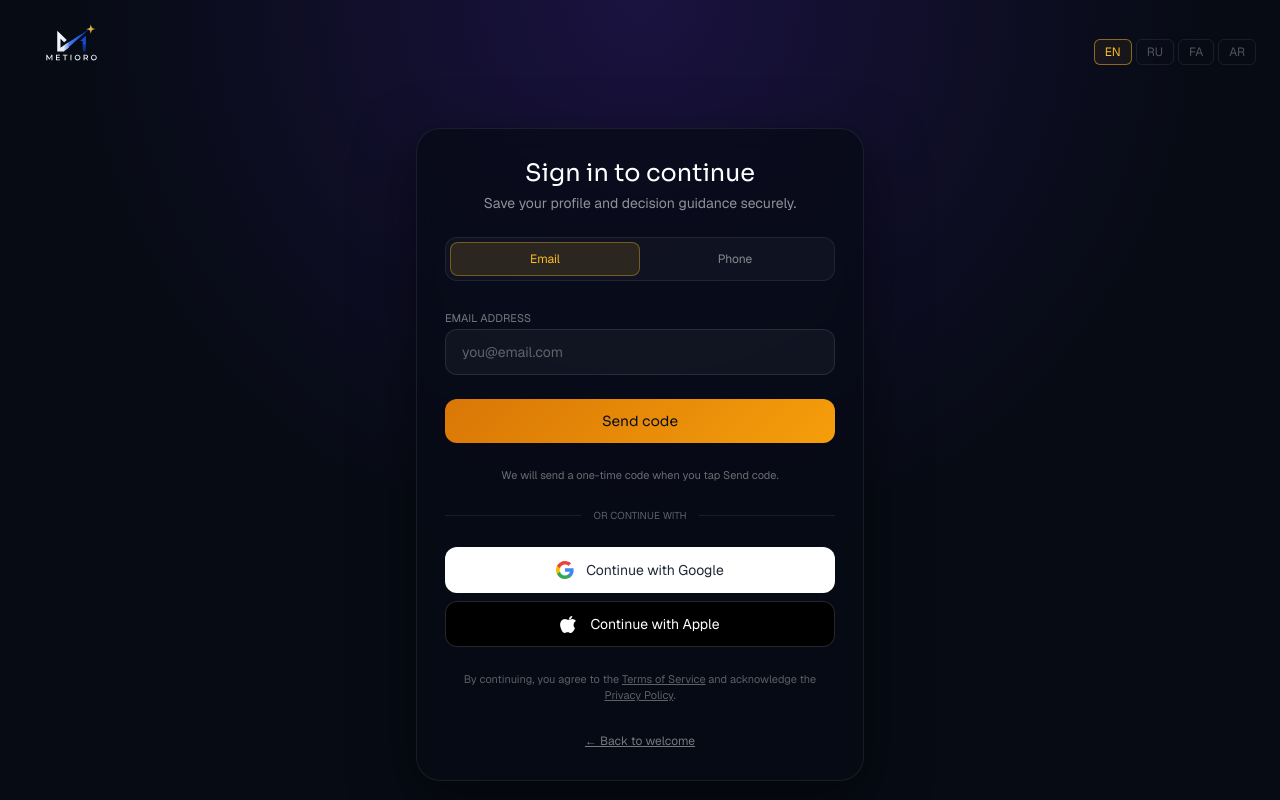
Test case: LoginScreen › shows validation error for invalid email
Type "not-an-email" into the field labelled "Email address" at point(640, 352), box x1=445 y1=329 x2=835 y2=375
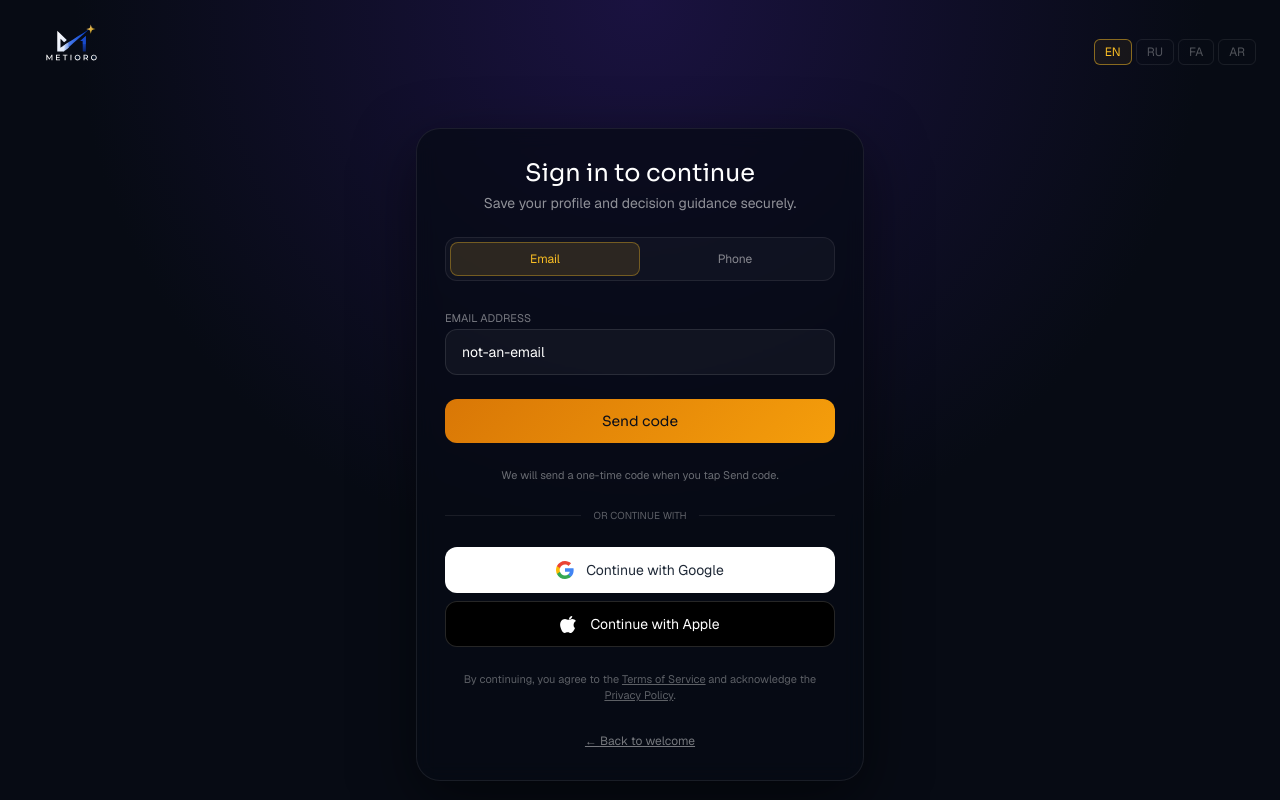
Click the button "Send code" at point(640, 421), box x1=445 y1=399 x2=835 y2=443
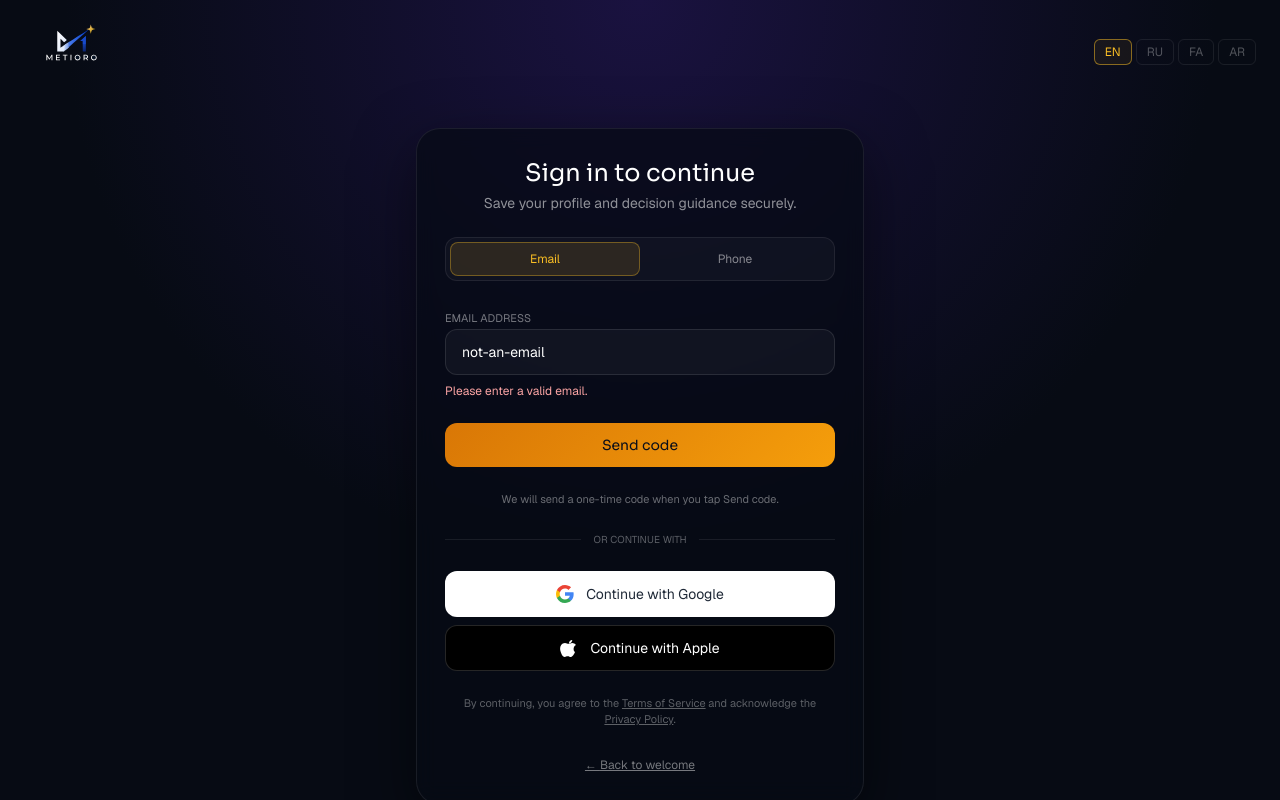
Expected: the message shows "valid email", x1=445 y1=383 x2=587 y2=399
